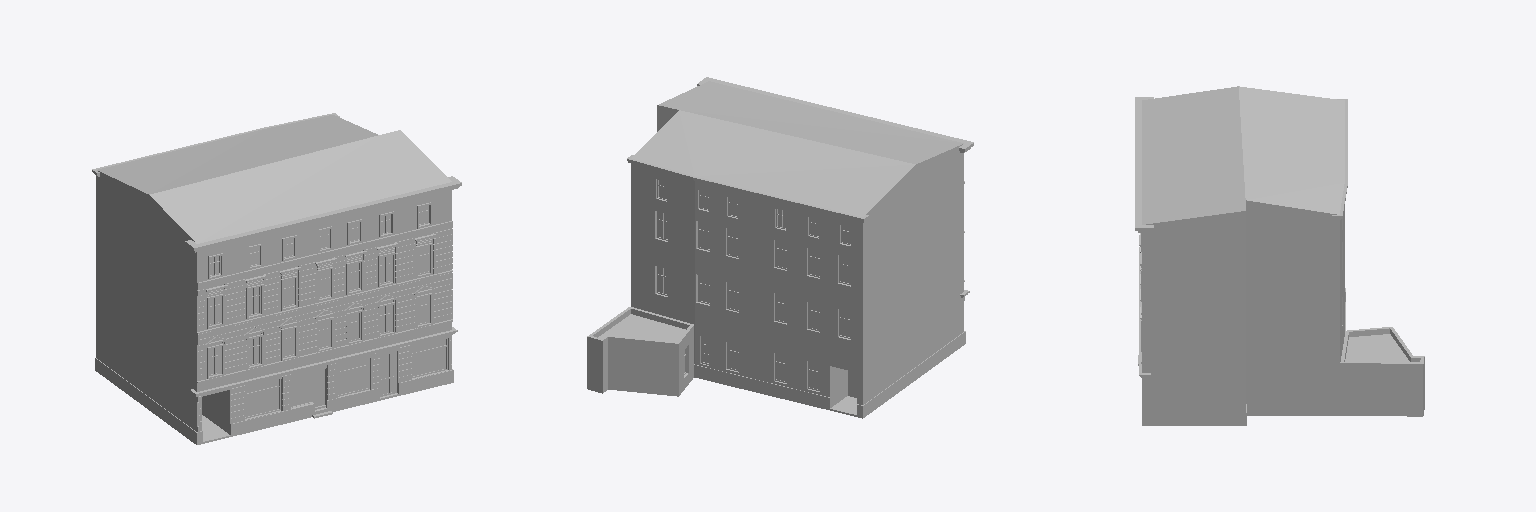
Rendered from dftg.obj.
3 views of the same model, side by side, from view 1: azimuth 30°, elevation 25°; view 2: azimuth 150°, elevation 25°; view 3: azimuth 270°, elevation 25° (orthographic).
Visible parts, largest first — view 1: WITRYNA_02; view 2: WITRYNA_02; view 3: WITRYNA_02.
Part boxes in pixels (x1,y1,x2,y2): WITRYNA_02: (92, 113, 461, 444); WITRYNA_02: (587, 77, 973, 418); WITRYNA_02: (1135, 86, 1424, 425).
Size of the model in its own units: 929 by 712 by 869.